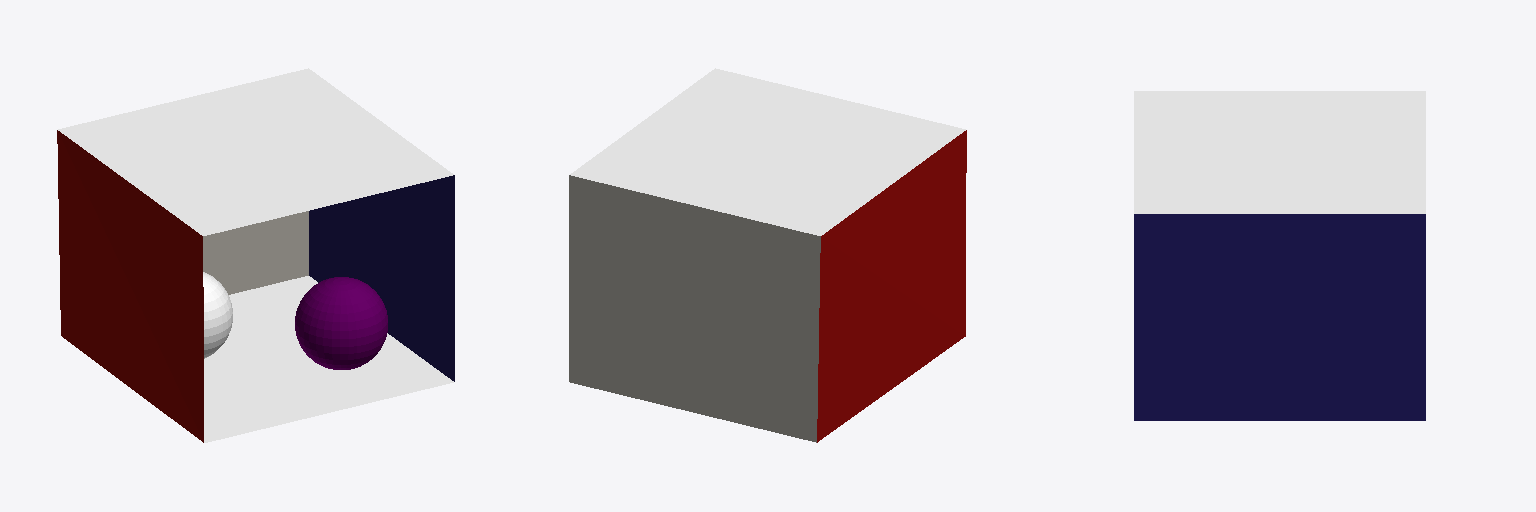
The model's file is CornellBox-Sphere.obj.
3 renders of one model, left to right at view 1: azimuth 30°, elevation 25°; view 2: azimuth 150°, elevation 25°; view 3: azimuth 270°, elevation 25°, orthographic.
Visible parts, largest first — view 1: ceiling, leftWall, floor, rightWall, rightSphere, backWall, leftSphere; view 2: backWall, ceiling, leftWall; view 3: rightWall, ceiling.
Boxes of the visible parts, x1=… form: ceiling: x1=58, y1=68, x2=453, y2=235; leftWall: x1=57, y1=130, x2=203, y2=442; floor: x1=204, y1=276, x2=453, y2=442; rightWall: x1=309, y1=175, x2=454, y2=381; rightSphere: x1=295, y1=277, x2=387, y2=369; backWall: x1=203, y1=211, x2=308, y2=294; leftSphere: x1=203, y1=272, x2=232, y2=358; backWall: x1=569, y1=175, x2=820, y2=442; ceiling: x1=570, y1=68, x2=965, y2=235; leftWall: x1=817, y1=130, x2=966, y2=442; rightWall: x1=1134, y1=214, x2=1425, y2=420; ceiling: x1=1134, y1=91, x2=1425, y2=213.
Size of the model in its own units: 2.02 by 1.59 by 2.03.